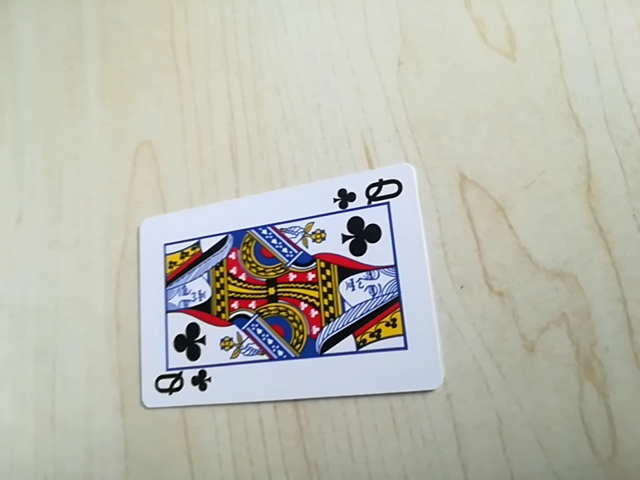mh q: (147, 362, 215, 404), (332, 175, 407, 211)
